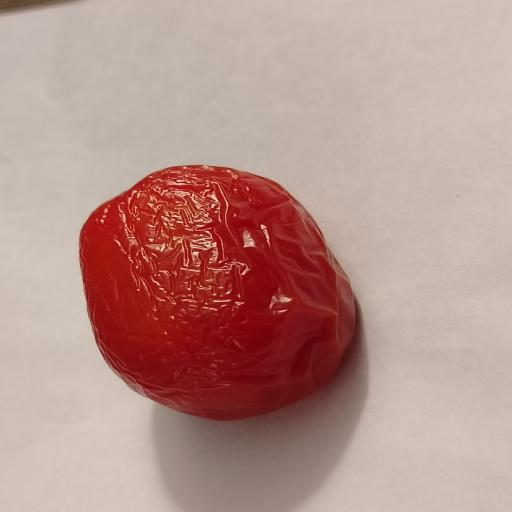spoiled: (80, 166, 354, 420)
